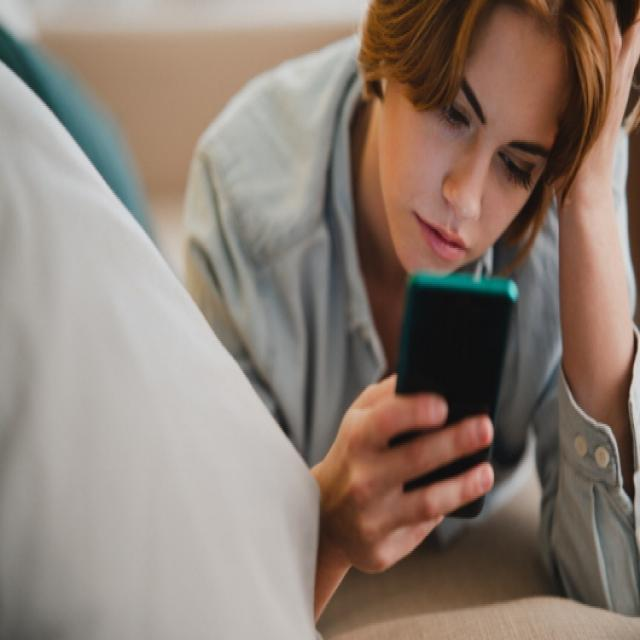Phone: (396, 271, 522, 524)
